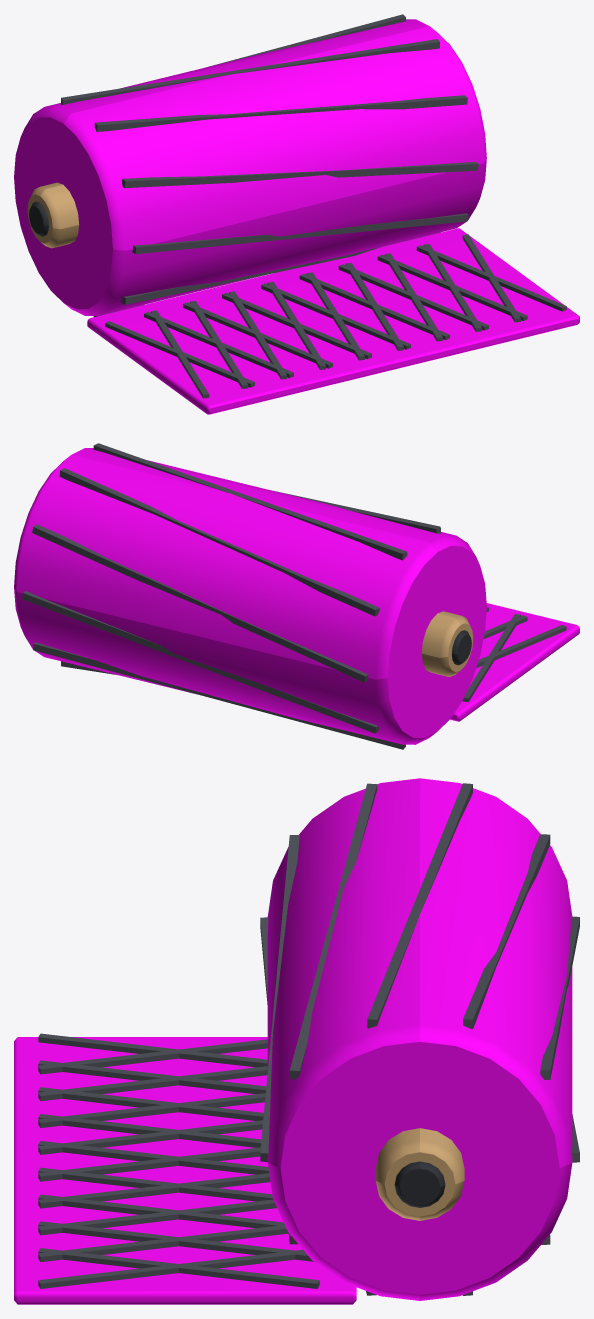
Rendered from objet_fibre_carbone.glb.
The picture shows the model from 3 angles, top to bottom: view 1: azimuth 30°, elevation 25°; view 2: azimuth 150°, elevation 25°; view 3: azimuth 270°, elevation 25°; orthographic projection. The views are drawn at different scales.
Parts seen in each view (by area): view 1: fibre_teinte.002, fibre_trame.002, fibre_carton_tube.002, fibre_composant.002; view 2: fibre_teinte.002, fibre_trame.002, fibre_carton_tube.002, fibre_composant.002; view 3: fibre_teinte.002, fibre_trame.002, fibre_carton_tube.002, fibre_composant.002.
Part boxes in pixels (left/top/right/bottom): fibre_teinte.002: left=14, top=19, right=579, bottom=414; fibre_trame.002: left=61, top=14, right=566, bottom=398; fibre_carton_tube.002: left=27, top=182, right=79, bottom=248; fibre_composant.002: left=29, top=201, right=48, bottom=236; fibre_teinte.002: left=14, top=448, right=579, bottom=744; fibre_trame.002: left=22, top=443, right=566, bottom=749; fibre_carton_tube.002: left=421, top=611, right=473, bottom=676; fibre_composant.002: left=451, top=630, right=471, bottom=665; fibre_teinte.002: left=14, top=778, right=572, bottom=1304; fibre_trame.002: left=38, top=783, right=579, bottom=1295; fibre_carton_tube.002: left=375, top=1128, right=464, bottom=1220; fibre_composant.002: left=394, top=1161, right=445, bottom=1207.
Size of the model in its own units: 0.275 by 0.12 by 0.223.
